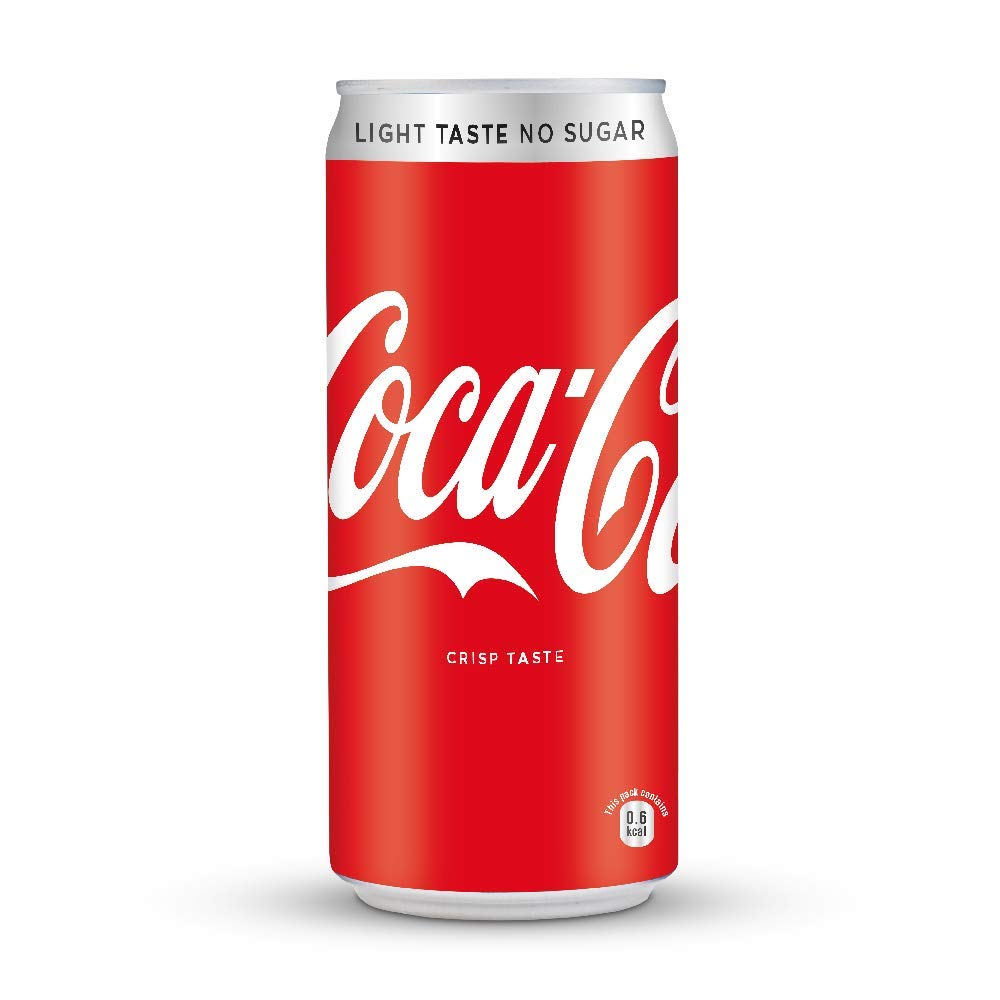coke: (315, 295, 729, 623)
